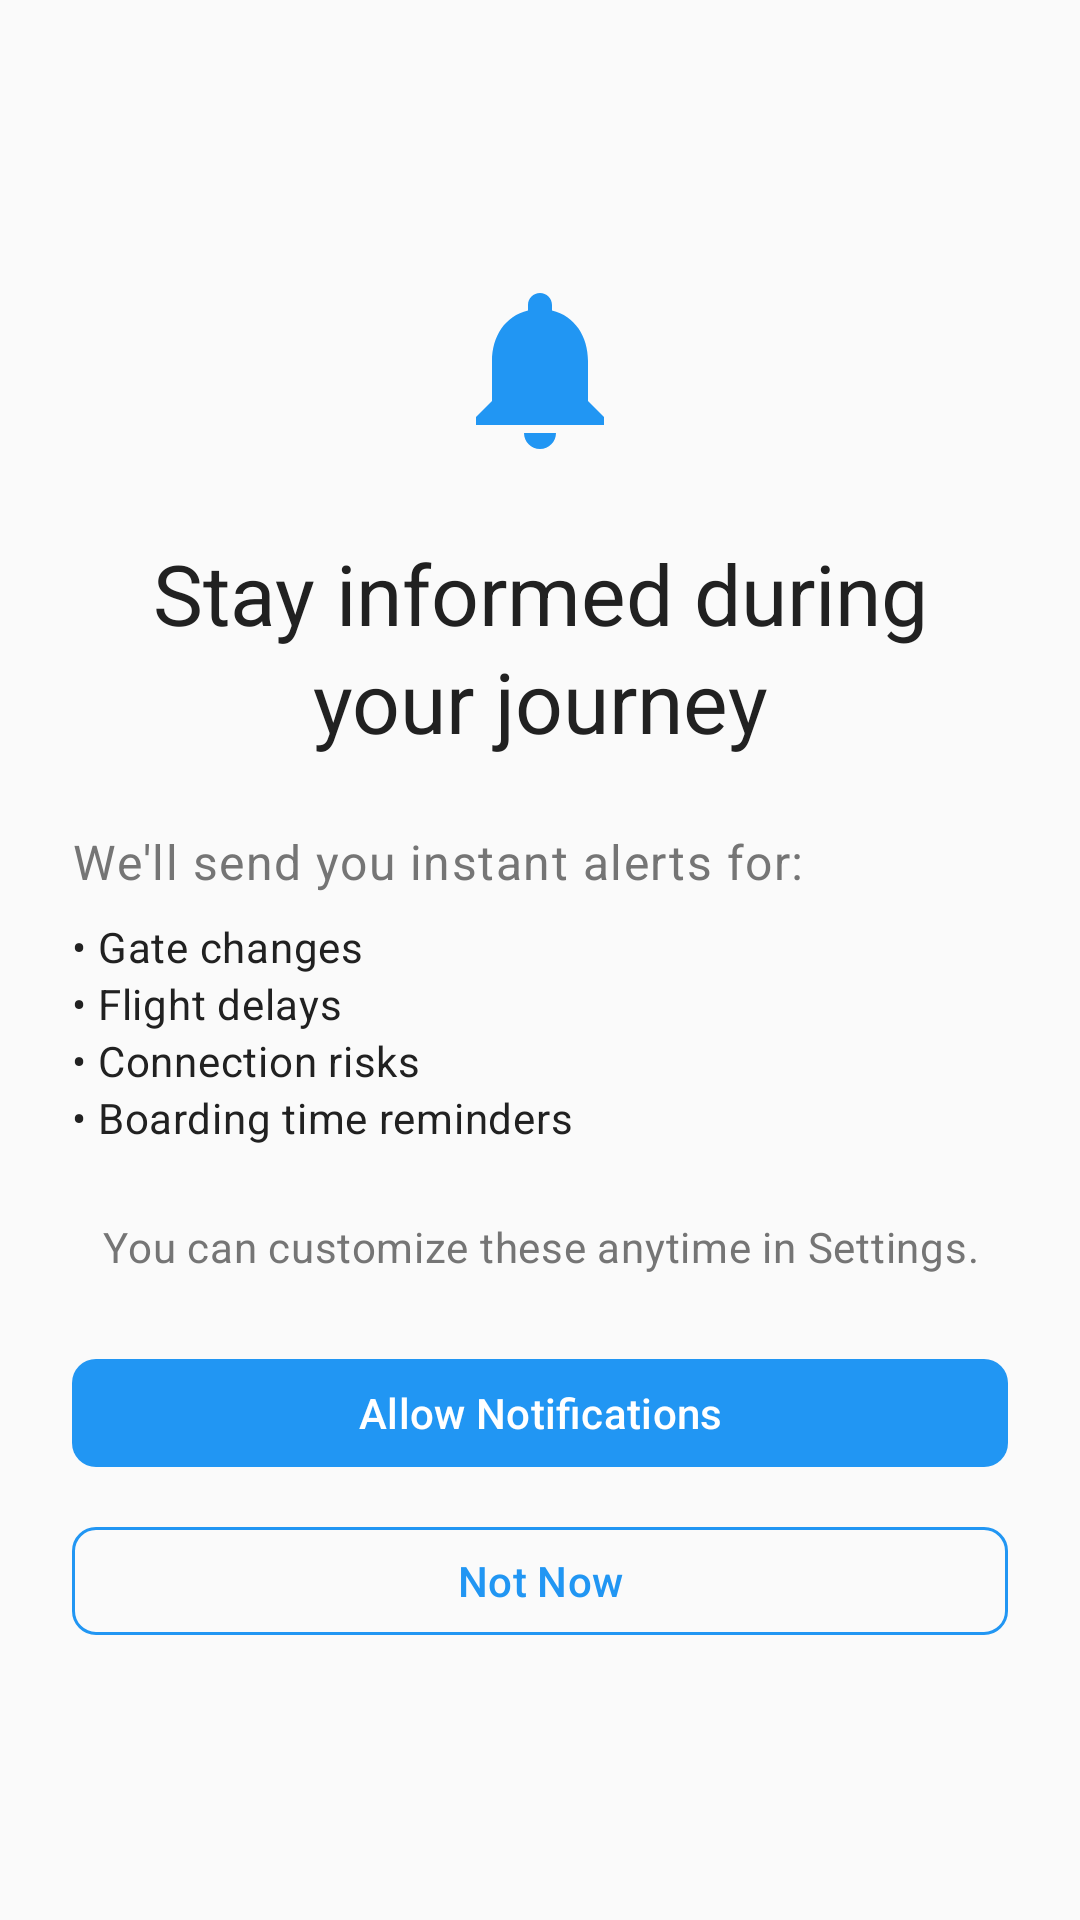

Screen size 1080x1920. Icon name, then its center in pixels as point (x, y):
notification: point (540, 371)
